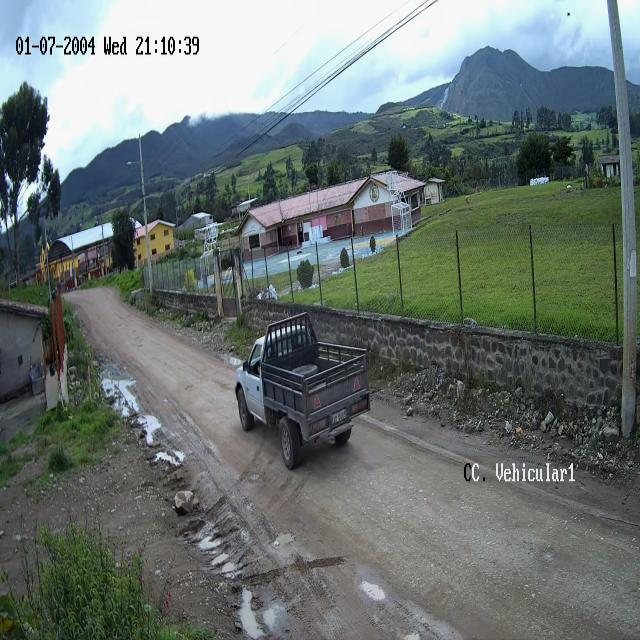CMT: (236, 321, 370, 469)
